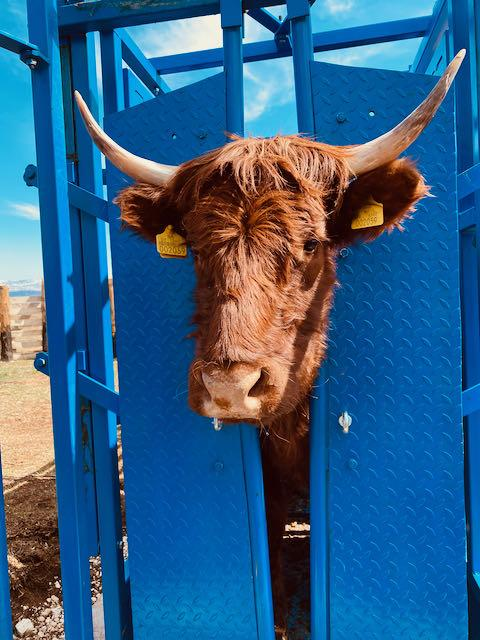muzzles: (179, 358, 292, 426)
